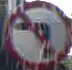Don't turn left: (4, 0, 71, 69)
